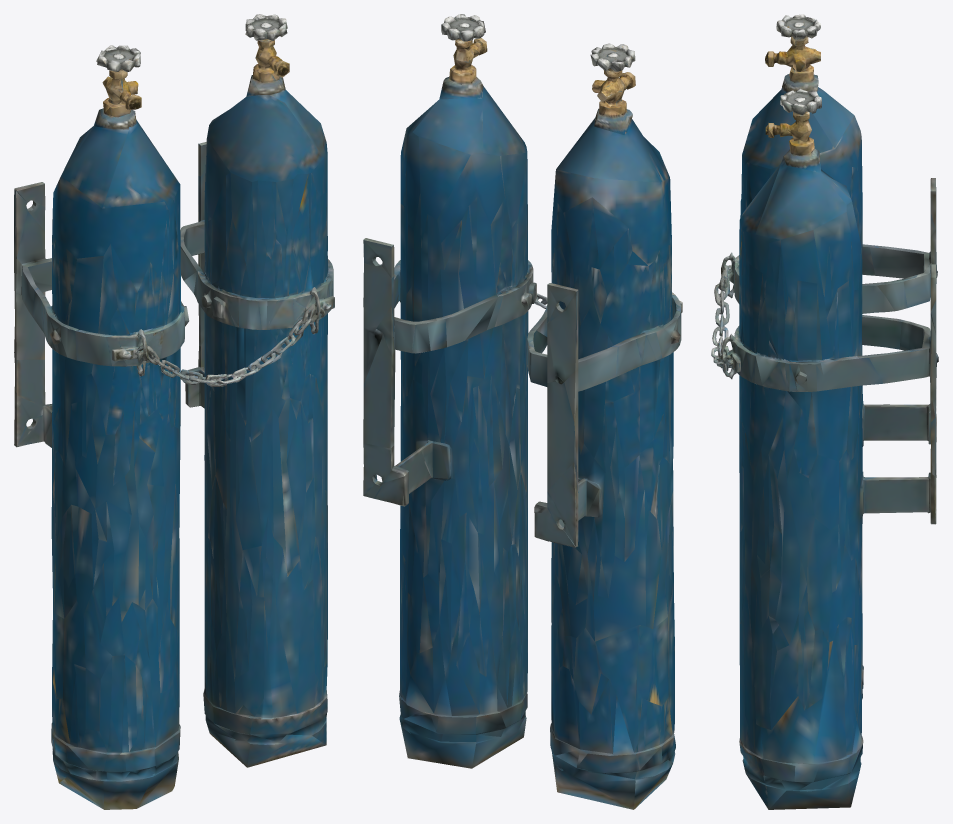
File: oxygen_bottles.2fe265eaf1.glb
3 views of the same model, side by side, from view 1: azimuth 30°, elevation 25°; view 2: azimuth 150°, elevation 25°; view 3: azimuth 270°, elevation 25° (orthographic). The views are drawn at different scales.
Parts seen in each view (by area): view 1: oxygen_bottles; view 2: oxygen_bottles; view 3: oxygen_bottles.
Part boxes in pixels (x1,y1,x2,y2): oxygen_bottles: (14, 14, 334, 809); oxygen_bottles: (363, 14, 682, 809); oxygen_bottles: (711, 14, 938, 809).
Size of the model in its own units: 0.6326 by 1.6 by 0.4672.
1 material, 1 textured.
